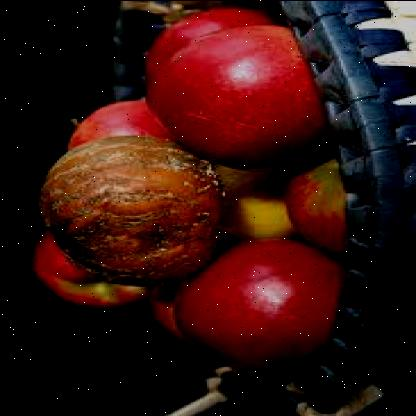apple: (159, 30, 316, 158), (182, 246, 339, 361)
damaged_apple: (46, 138, 214, 284)
